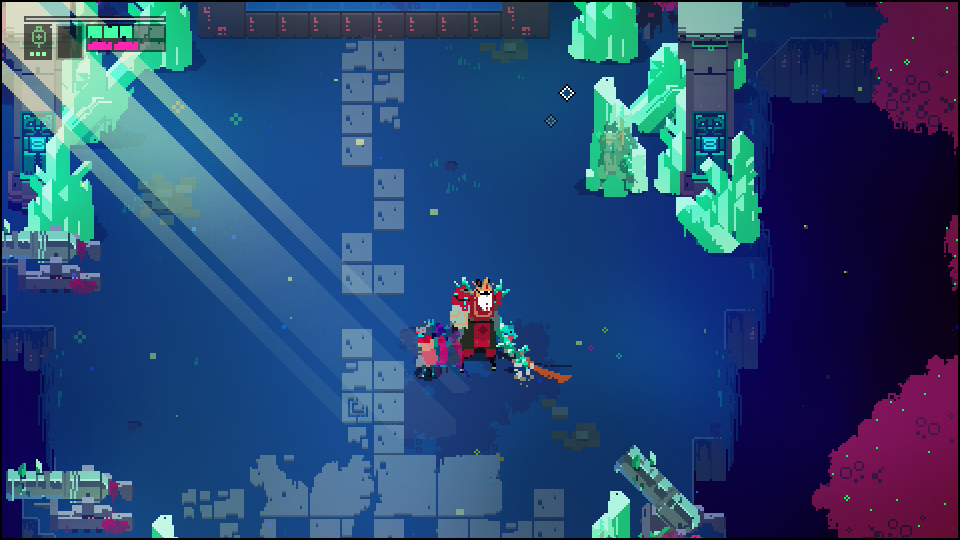hanged_man: (449, 276, 538, 373)
player: (414, 323, 438, 378)
